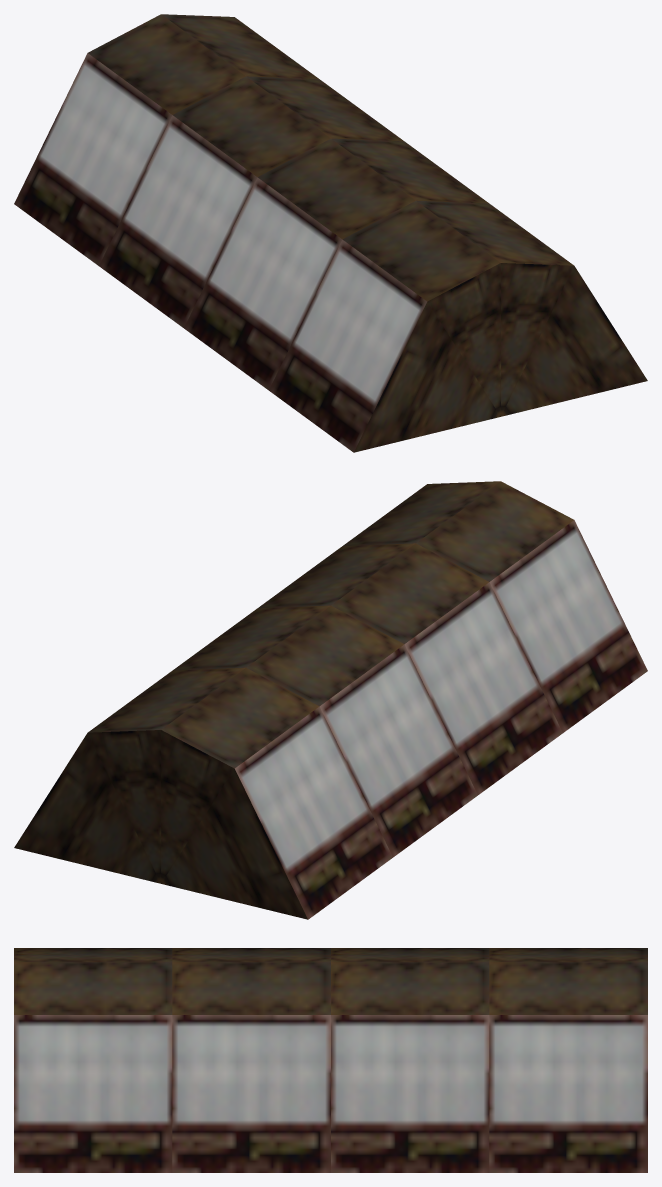
File: prop-078.glb
3 views of the same model, one above another, from view 1: azimuth 30°, elevation 25°; view 2: azimuth 150°, elevation 25°; view 3: azimuth 270°, elevation 25° (orthographic). The views are drawn at different scales.
Parts seen in each view (by area): view 1: root; view 2: root; view 3: root.
Boxes of the visible parts, x1=… form: root: x1=14, y1=14, x2=647, y2=452; root: x1=14, y1=481, x2=647, y2=919; root: x1=14, y1=948, x2=647, y2=1172.
Bounding box in the file's own units: 2 × 1 × 4.
Materials: 2 (2 with a texture image).
